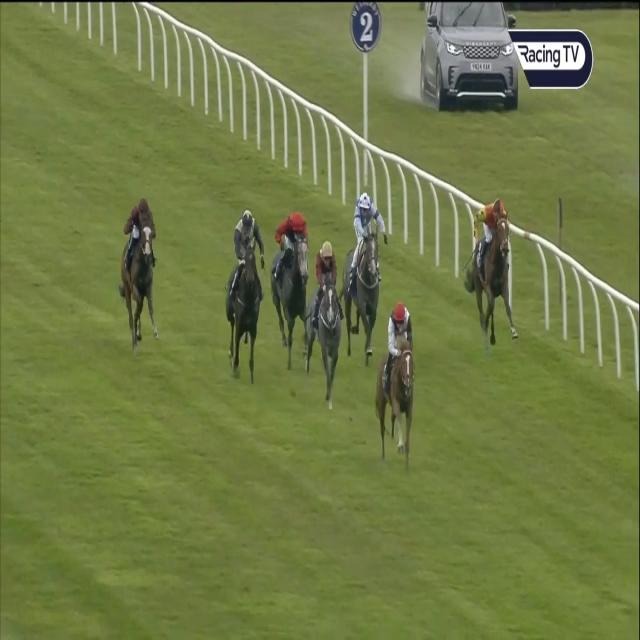horses-racing: (468, 188, 520, 345), (304, 242, 348, 411), (117, 196, 163, 351), (222, 209, 262, 385), (377, 290, 414, 472), (267, 204, 310, 359), (345, 192, 381, 352)
